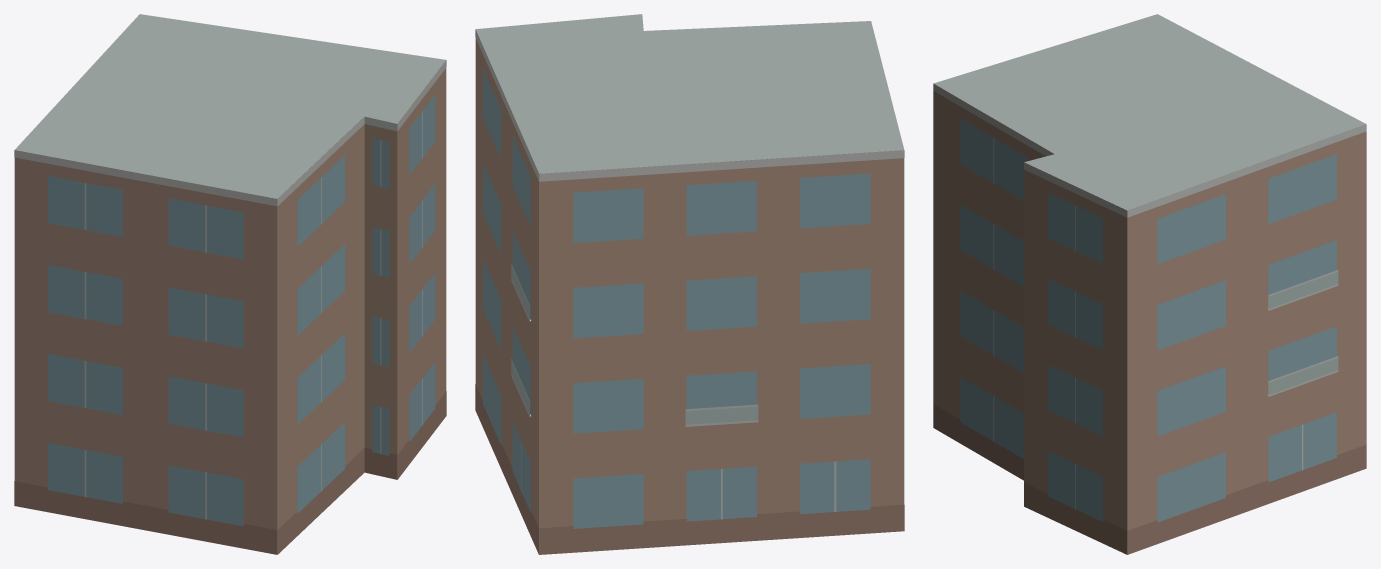
Rendered from survey-upis-32679724.glb.
3 views of the same model, side by side, from view 1: azimuth 30°, elevation 25°; view 2: azimuth 150°, elevation 25°; view 3: azimuth 270°, elevation 25° (orthographic). The views are drawn at different scales.
Parts seen in each view (by area): view 1: survey-upis-32679724.tmp; view 2: survey-upis-32679724.tmp; view 3: survey-upis-32679724.tmp.
Part boxes in pixels (left/top/right/bottom): survey-upis-32679724.tmp: left=14, top=14, right=446, bottom=554; survey-upis-32679724.tmp: left=475, top=14, right=904, bottom=554; survey-upis-32679724.tmp: left=933, top=14, right=1366, bottom=554.
Bounding box in the file's own units: 14.33 × 11.7 × 13.35.
